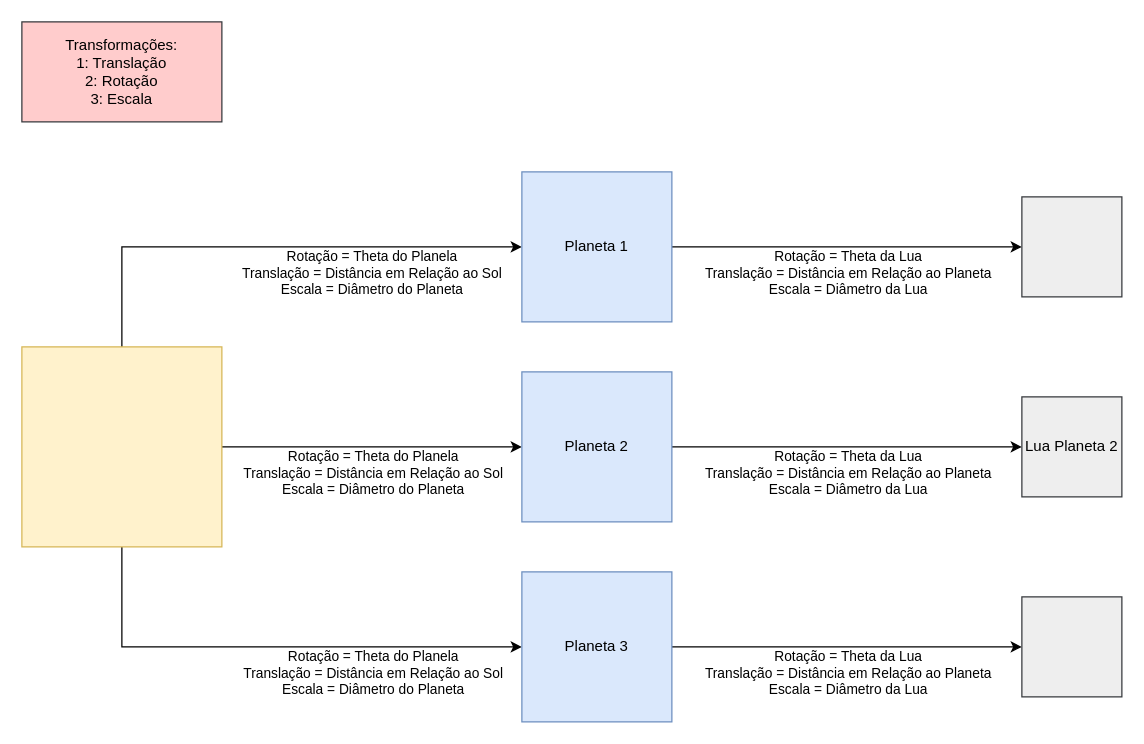
Some shapes in this 1144 by 744 pixel diagram are drawn without their labels. The box of each missing label's shape, as (x1, y1, x2, y2) in pixels:
Lua Planeta 1: (1021, 196, 1122, 297)
Lua Planeta 3: (1021, 596, 1122, 697)
Sol: (21, 346, 222, 547)
